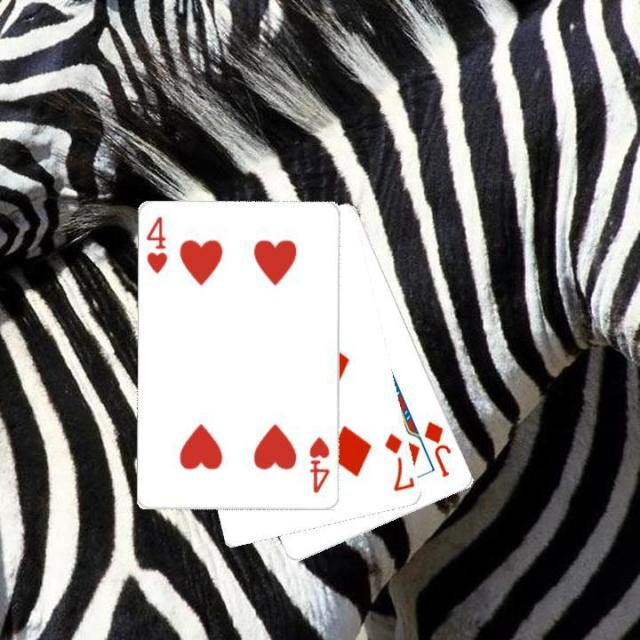4H: (143, 213, 170, 276), (306, 434, 332, 495)
7D: (382, 429, 414, 494)
JD: (420, 417, 454, 479)
